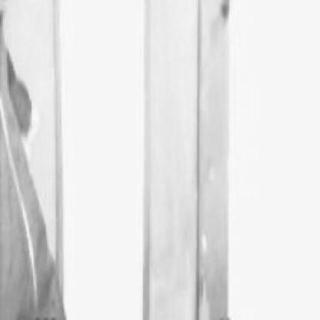other: (151, 0, 225, 312), (38, 16, 52, 196)
